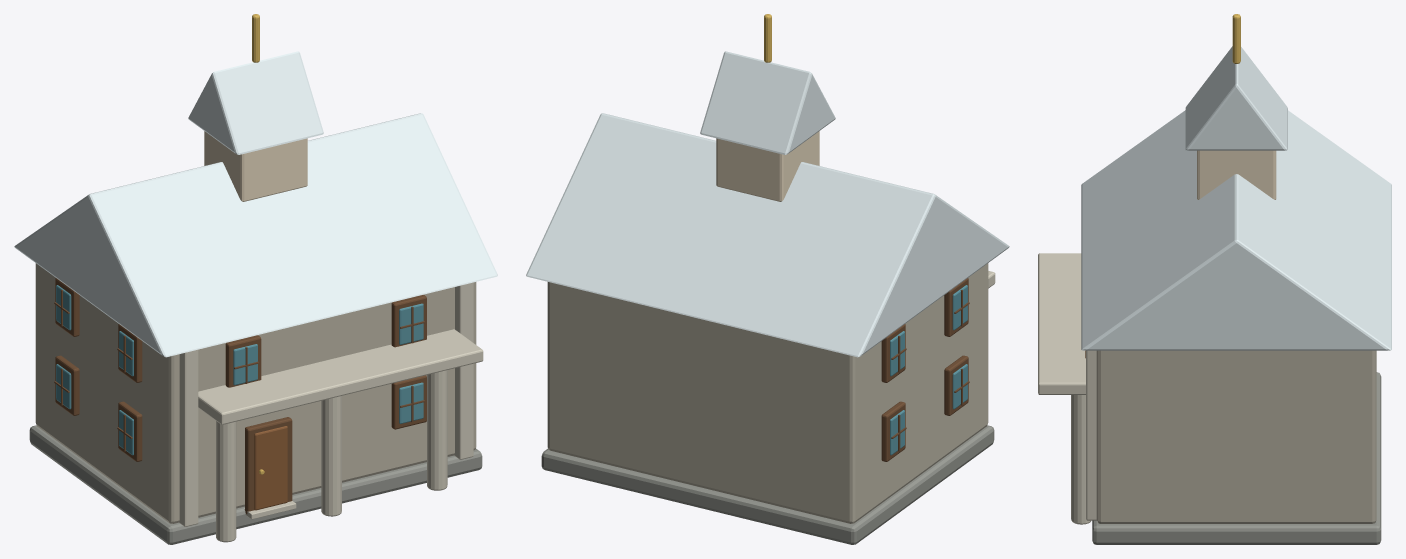
File: snowy-civic-1.glb
The picture shows the model from 3 angles, left to right: view 1: azimuth 30°, elevation 25°; view 2: azimuth 150°, elevation 25°; view 3: azimuth 270°, elevation 25°; orthographic projection. The views are drawn at different scales.
Visible parts, largest first — view 1: Snow, Warm civic stone, Cut limestone, Dark beams, Foundation stone, Blue glass, Warm lime, Door oak; view 2: Snow, Warm civic stone, Foundation stone, Warm lime, Dark beams, Blue glass; view 3: Snow, Warm civic stone, Cut limestone, Foundation stone, Warm lime, Warm brass.
Part boxes in pixels (bbox=[...]): Snow: bbox=[14, 51, 497, 357]; Warm civic stone: bbox=[35, 263, 476, 523]; Cut limestone: bbox=[179, 282, 483, 542]; Dark beams: bbox=[54, 278, 426, 513]; Foundation stone: bbox=[29, 425, 482, 544]; Blue glass: bbox=[56, 285, 423, 455]; Warm lime: bbox=[204, 131, 307, 201]; Door oak: bbox=[254, 426, 287, 510]; Snow: bbox=[526, 51, 1009, 357]; Warm civic stone: bbox=[547, 263, 988, 523]; Foundation stone: bbox=[541, 425, 994, 544]; Warm lime: bbox=[716, 131, 819, 201]; Dark beams: bbox=[881, 278, 969, 461]; Blue glass: bbox=[890, 285, 967, 455]; Snow: bbox=[1081, 46, 1391, 350]; Warm civic stone: bbox=[1096, 350, 1376, 523]; Cut limestone: bbox=[1038, 253, 1096, 524]; Foundation stone: bbox=[1092, 372, 1381, 544]; Warm lime: bbox=[1197, 150, 1276, 199]; Warm brass: bbox=[1232, 14, 1240, 63].
Size of the model in its own units: 5.24 by 6.61 by 4.68.
